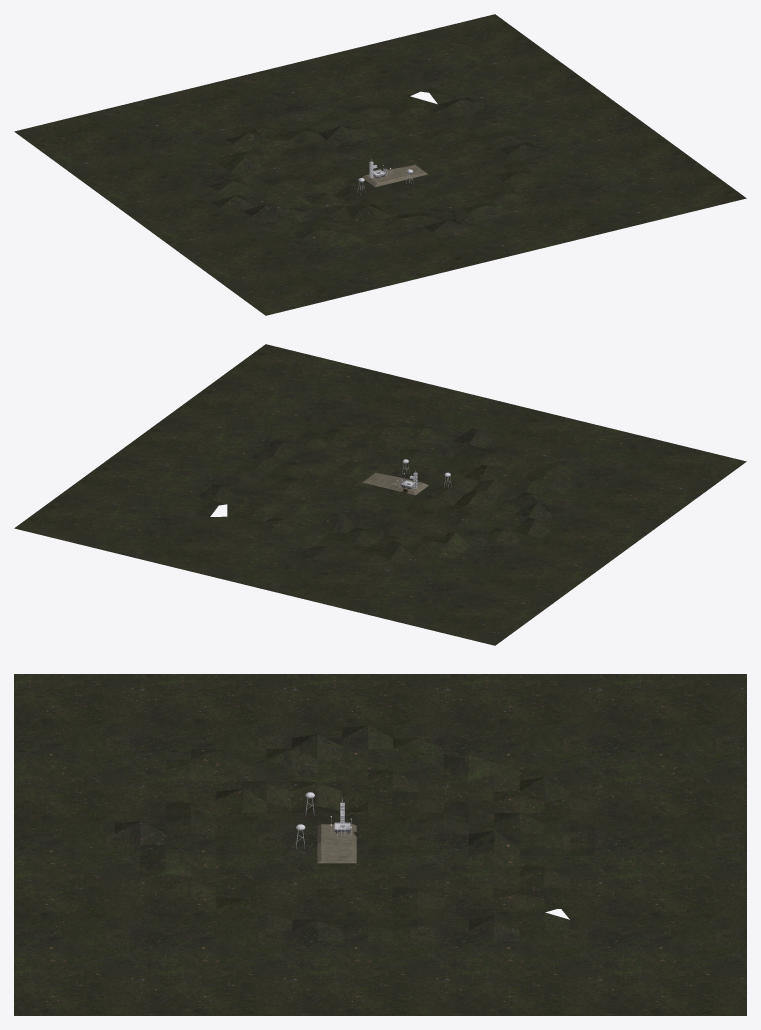
File: launch_site.gltf
The picture shows the model from 3 angles, top to bottom: view 1: azimuth 30°, elevation 25°; view 2: azimuth 150°, elevation 25°; view 3: azimuth 270°, elevation 25°; orthographic projection. The views are drawn at different scales.
Parts seen in each view (by area): view 1: ground, basis; view 2: ground, basis; view 3: ground, basis.
Boxes of the visible parts, x1,y1,x2,y2 form: ground: [14, 14, 746, 315]; basis: [362, 164, 427, 187]; ground: [14, 344, 746, 645]; basis: [362, 472, 428, 495]; ground: [14, 674, 746, 1015]; basis: [317, 824, 356, 863].
Size of the model in its own units: 2040 by 111 by 1848.
Materials: 6 (4 with a texture image).
